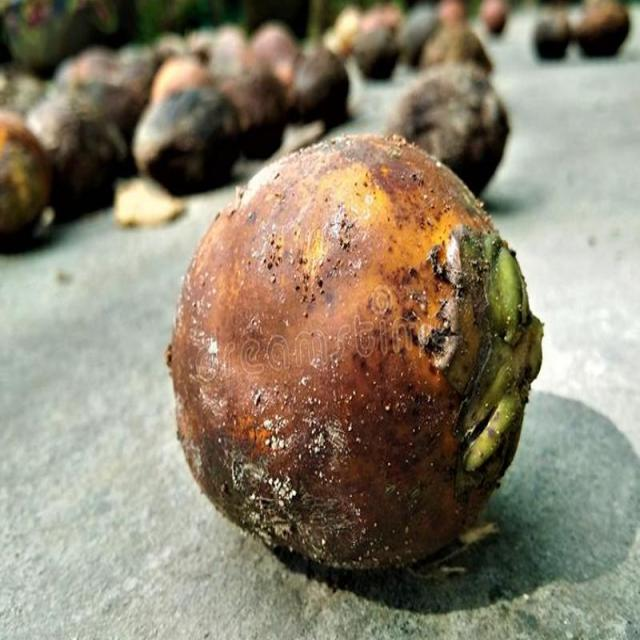damaged: (166, 135, 542, 569)
